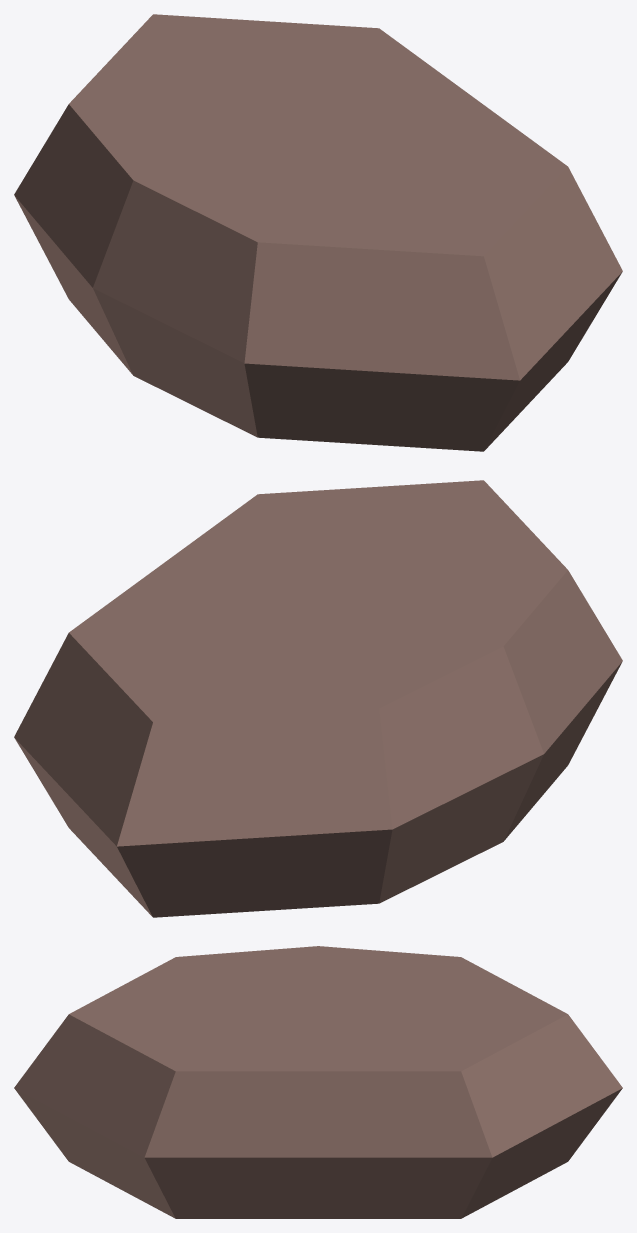
Rendered from mussel.glb.
The picture shows the model from 3 angles, top to bottom: view 1: azimuth 30°, elevation 25°; view 2: azimuth 150°, elevation 25°; view 3: azimuth 270°, elevation 25°; orthographic projection. The views are drawn at different scales.
Parts seen in each view (by area): view 1: mussel; view 2: mussel; view 3: mussel.
Boxes of the visible parts, box(x1,y1,x2,y2) form: mussel: box(14, 14, 622, 451); mussel: box(14, 480, 622, 917); mussel: box(14, 946, 622, 1218).
Size of the model in its own units: 0.0923 by 0.0415 by 0.1554.
